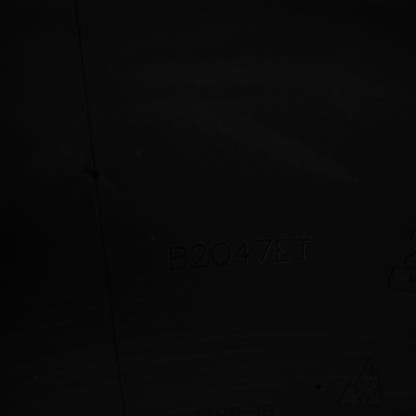ocr: (167, 234, 314, 274)
